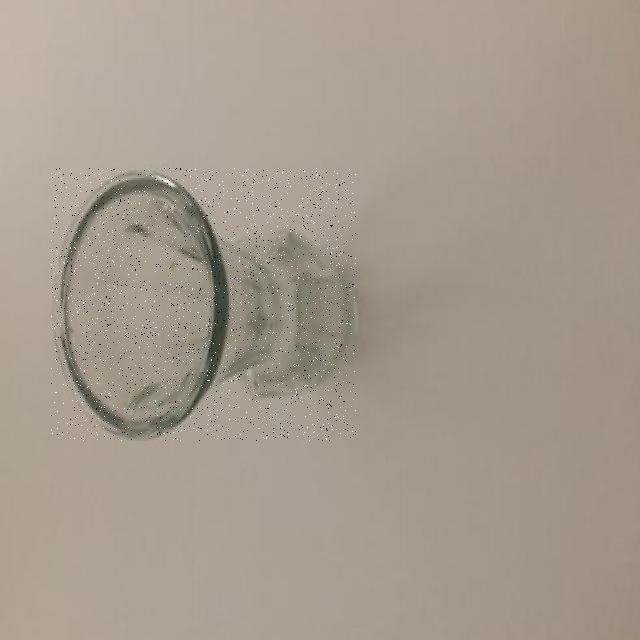glass: (51, 168, 356, 441)
